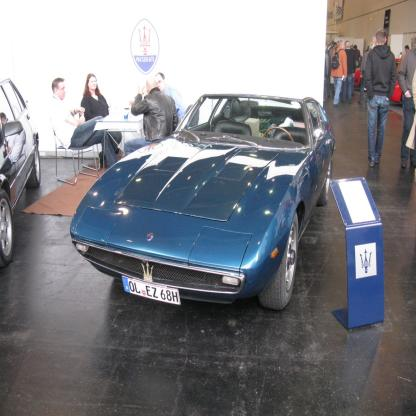Car: (71, 94, 338, 311), (1, 78, 42, 266)
